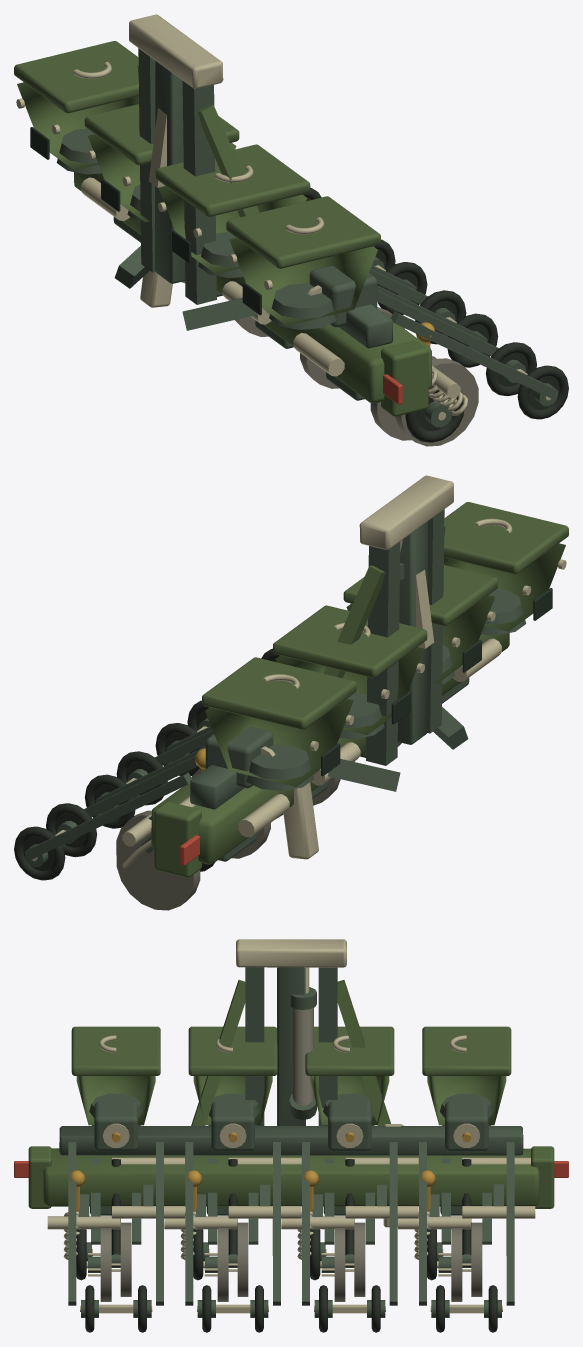
Rendered from seeder.compact.m1.lod1.glb.
The picture shows the model from 3 angles, top to bottom: view 1: azimuth 30°, elevation 25°; view 2: azimuth 150°, elevation 25°; view 3: azimuth 270°, elevation 25°; orthographic projection. The views are drawn at different scales.
Visible parts, largest first — view 1: hopperLid04, hopperLid01, hopperLid03, tire (×6), toolbarBeam, hitchMastRight, hopperBody04, hitchMastCap, hitchMastSpine, rowFabricationRail04, hitchMastLeft, toolbarEndPlateRight (+18 smaller); view 2: hopperLid01, hopperLid04, hopperLid02, tire (×5), hitchMastLeft, toolbarBeam, hopperBody01, hitchMastCap, hitchMastSpine, rowFabricationRail01, openerPlate, hitchMastRight (+18 smaller); view 3: toolbarBeam, toolbarRail, openerPlate (×8), hopperLid01, hopperLid04, hopperLid03, hopperLid02, hitchMastCap, hitchMastSpine, rowFabricationRail02, rowFabricationRail01, rowFabricationRail04 (+26 smaller).
Boxes of the visible parts, <box> form: hopperLid04: <box>226,196,380,268</box>; hopperLid01: <box>14,41,138,113</box>; hopperLid03: <box>155,144,310,216</box>; tire (×6): <box>377,262,568,442</box>; toolbarBeam: <box>74,172,431,403</box>; hitchMastRight: <box>182,81,216,304</box>; hopperBody04: <box>229,238,377,325</box>; hitchMastCap: <box>129,14,223,89</box>; hitchMastSpine: <box>155,61,185,283</box>; rowFabricationRail04: <box>377,290,558,399</box>; hitchMastLeft: <box>138,48,155,272</box>; toolbarEndPlateRight: <box>381,340,428,416</box>; hopperLid01: <box>202,657,356,729</box>; hopperLid04: <box>444,502,568,574</box>; hopperLid02: <box>273,605,427,677</box>; tire (×5): <box>14,723,205,880</box>; hitchMastLeft: <box>366,542,400,765</box>; toolbarBeam: <box>151,633,509,864</box>; hopperBody01: <box>205,699,353,786</box>; hitchMastCap: <box>359,475,453,550</box>; hitchMastSpine: <box>397,521,427,744</box>; rowFabricationRail01: <box>24,755,197,860</box>; openerPlate: <box>116,833,200,910</box>; hitchMastRight: <box>427,509,444,733</box>; toolbarBeam: <box>43,1148,539,1206</box>; toolbarRail: <box>59,1126,523,1155</box>; openerPlate (×8): <box>100,1222,482,1301</box>; hopperLid01: <box>422,1026,511,1075</box>; hopperLid04: <box>71,1026,160,1075</box>; hopperLid03: <box>188,1026,277,1075</box>; hopperLid02: <box>305,1026,394,1075</box>; hitchMastCap: <box>236,939,346,967</box>; hitchMastSpine: <box>277,967,305,1125</box>; rowFabricationRail02: <box>302,1142,397,1305</box>; rowFabricationRail01: <box>419,1142,514,1305</box>; rowFabricationRail04: <box>68,1142,163,1305</box>.
Bounding box in the file's own units: 1.98 × 2.23 × 3.8.
